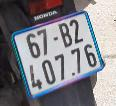0: (37, 57, 58, 89)
2: (67, 17, 86, 47)
4: (25, 61, 46, 93)
6: (23, 30, 43, 62), (82, 40, 101, 71)
7: (67, 46, 85, 77), (36, 26, 51, 60), (52, 52, 68, 83)
B: (56, 21, 75, 50)
